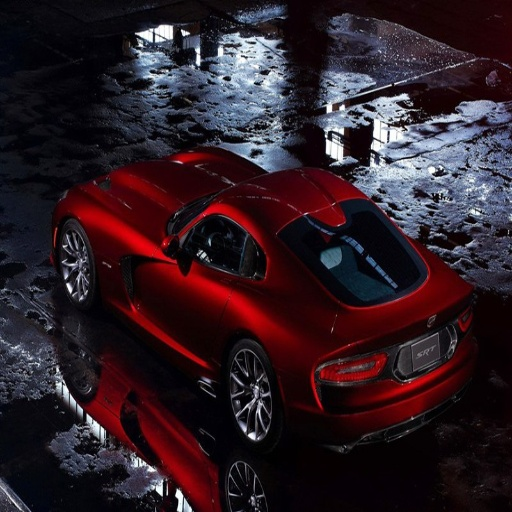trunk: (329, 299, 446, 380)
